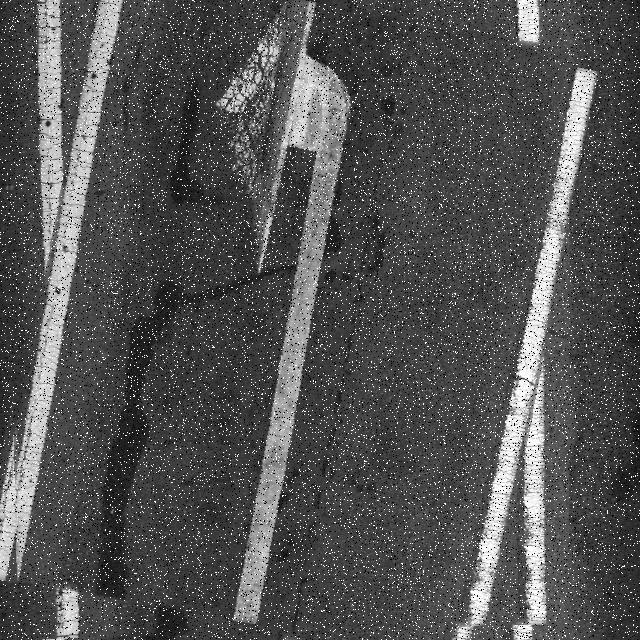left: (4, 0, 569, 640)
